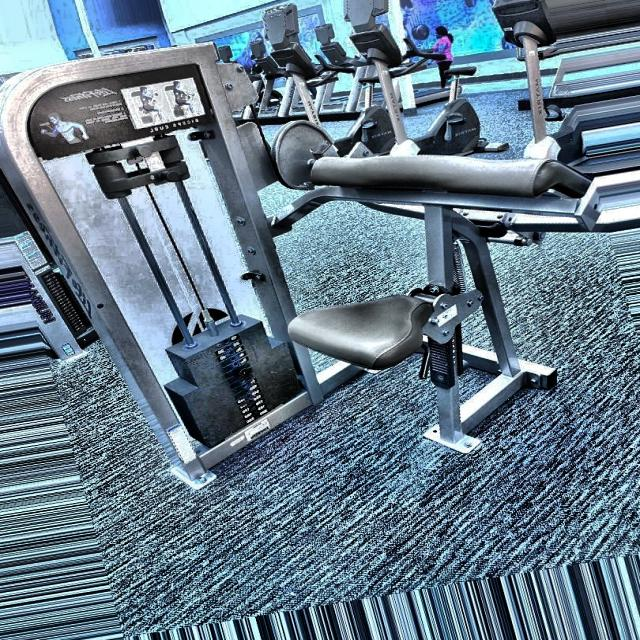bicep_curl_machine: (5, 7, 595, 462)
